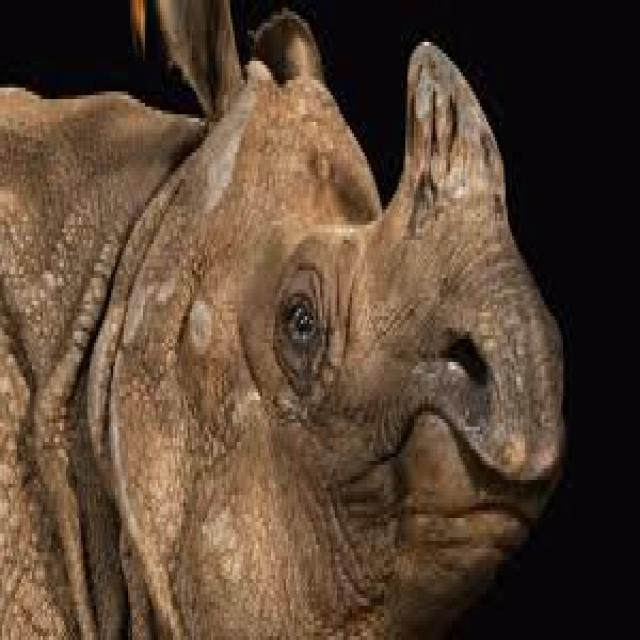rhinoceros: (2, 0, 565, 636)
